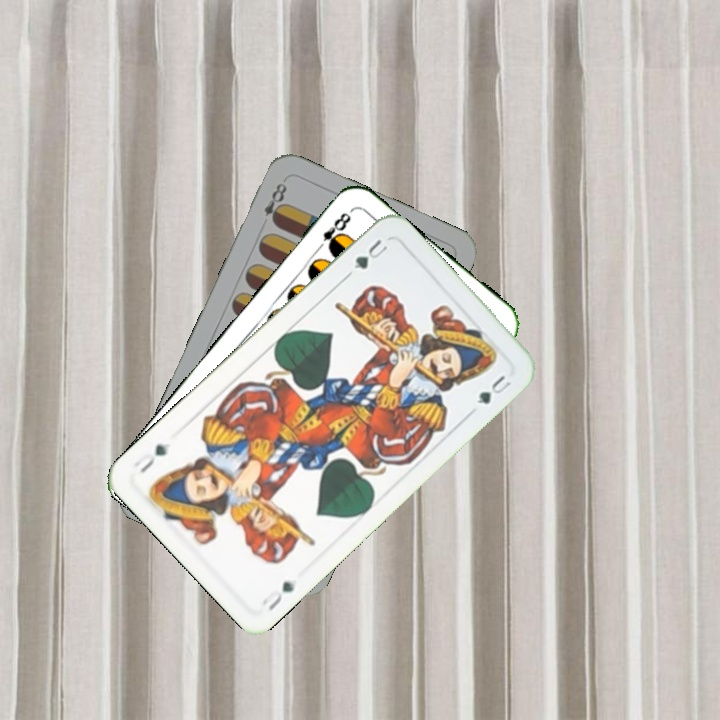E8: (311, 208, 354, 255), (259, 176, 290, 228)
GU: (349, 235, 391, 272), (258, 577, 298, 614)
